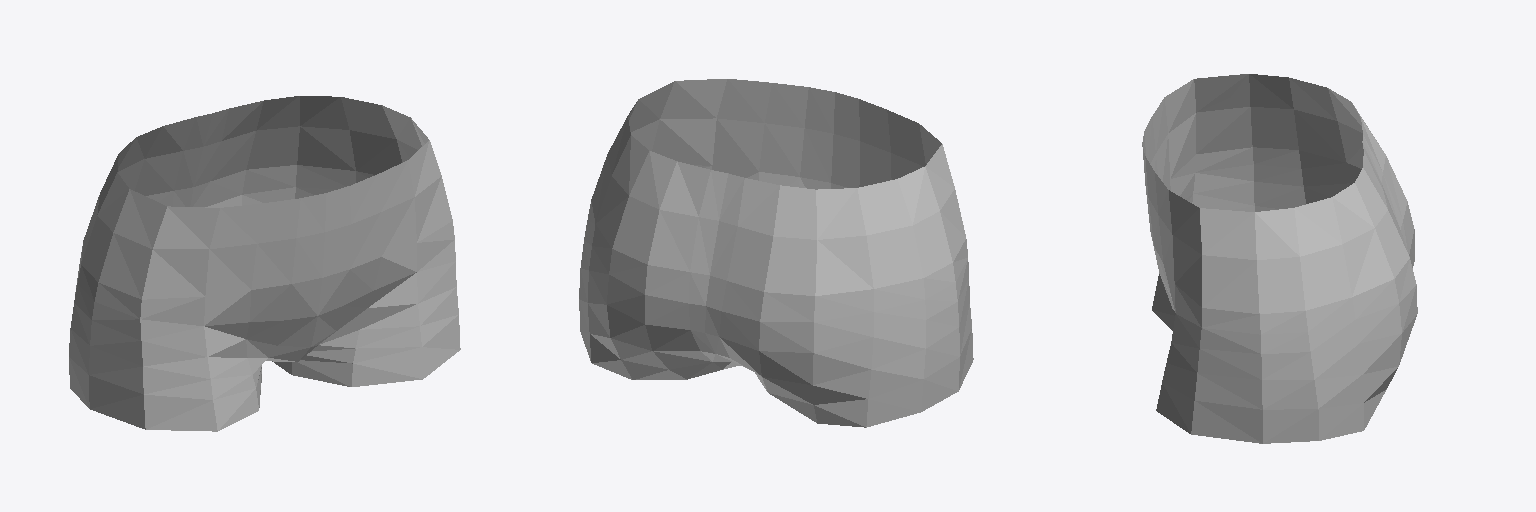
The model's file is button.obj.
3 views of the same model, side by side, from view 1: azimuth 30°, elevation 25°; view 2: azimuth 150°, elevation 25°; view 3: azimuth 270°, elevation 25° (orthographic).
Size of the model in its own units: 35.16 by 21.15 by 23.34.